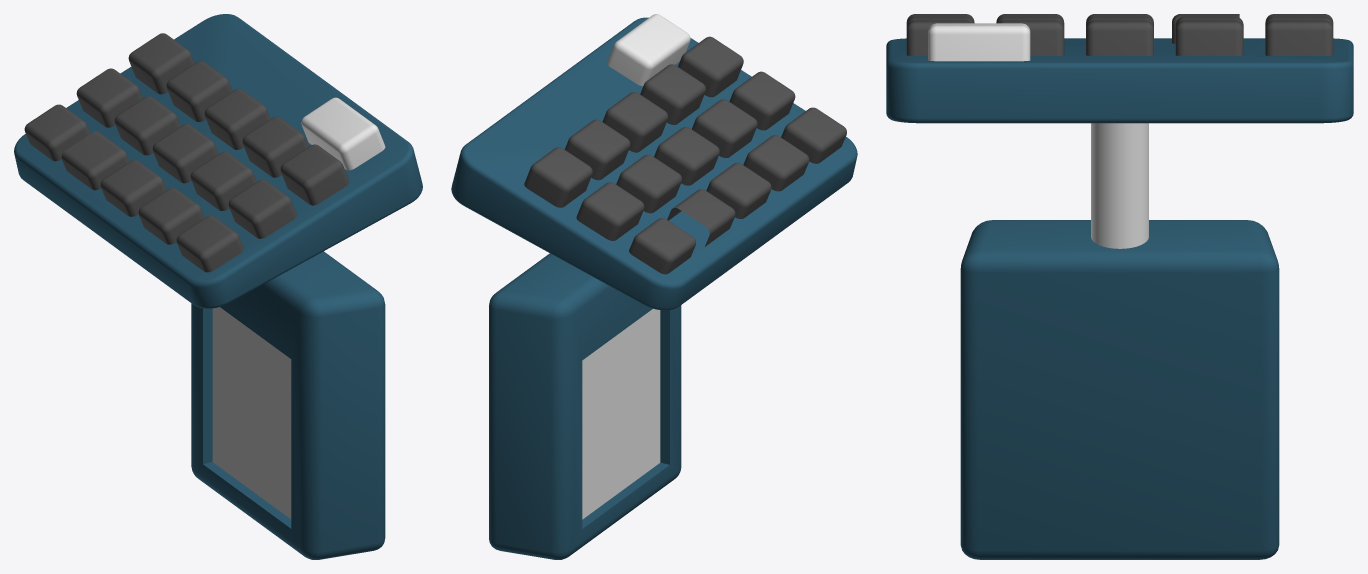
Rendered from barkodokuyucu.fbx.
3 renders of one model, left to right at view 1: azimuth 30°, elevation 25°; view 2: azimuth 150°, elevation 25°; view 3: azimuth 270°, elevation 25°, orthographic. The views are drawn at different scales.
Parts seen in each view (by area): view 1: barkodalt, barkodtuşlar, barkodüst, barkodtuş; view 2: barkodalt, barkodtuşlar, barkodüst, barkodtuş; view 3: barkodalt, barkodüst, barkodtuşlar, barkodsilindir, barkodtuş.
Boxes of the visible parts, x1,y1,x2,y2 form: barkodalt: (191, 251, 385, 559); barkodtuşlar: (24, 33, 349, 272); barkodüst: (14, 14, 422, 308); barkodtuş: (301, 97, 385, 170); barkodalt: (489, 253, 681, 559); barkodtuşlar: (524, 36, 846, 274); barkodüst: (451, 17, 857, 310); barkodtuş: (607, 14, 690, 86); barkodalt: (960, 220, 1279, 559); barkodüst: (886, 38, 1353, 123); barkodtuşlar: (906, 14, 1333, 55); barkodsilindir: (1091, 123, 1148, 248); barkodtuş: (928, 23, 1030, 61).
Size of the model in its own units: 179 by 328 by 266.
